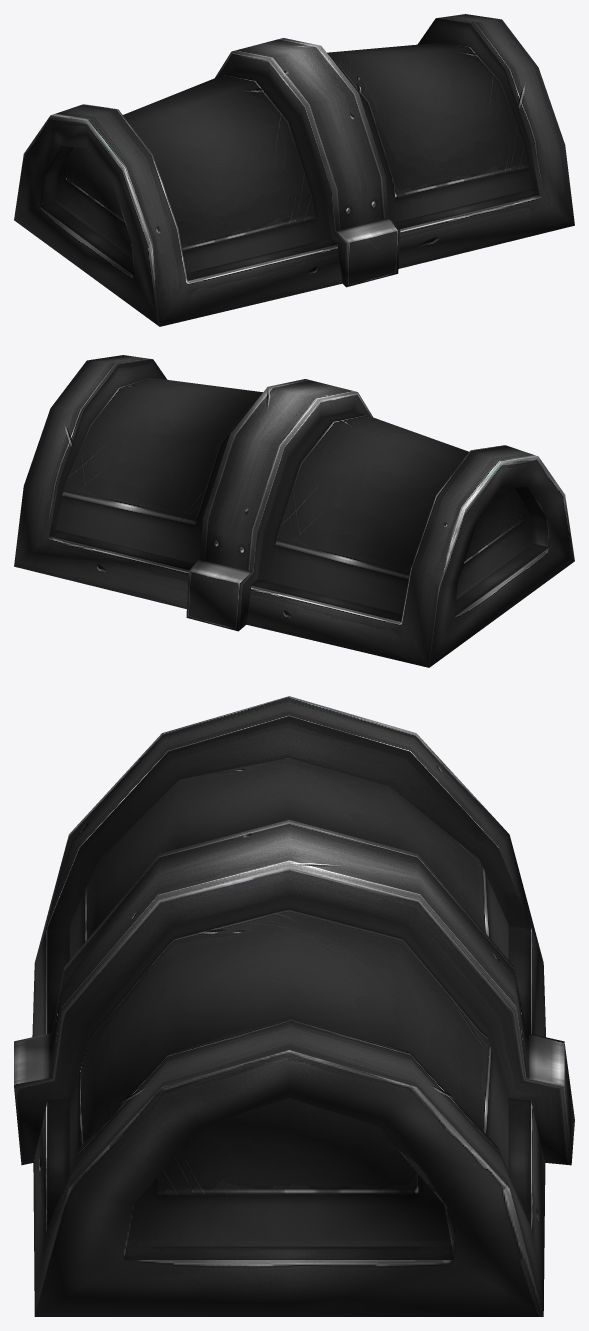
The model's file is metaltop.fbx.
The picture shows the model from 3 angles, top to bottom: view 1: azimuth 30°, elevation 25°; view 2: azimuth 150°, elevation 25°; view 3: azimuth 270°, elevation 25°; orthographic projection. The views are drawn at different scales.
Parts seen in each view (by area): view 1: Mesh; view 2: Mesh; view 3: Mesh.
Part boxes in pixels (x1=…): Mesh: x1=14, y1=14, x2=574, y2=326; Mesh: x1=14, y1=355, x2=574, y2=667; Mesh: x1=14, y1=696, x2=574, y2=1316.
Bounding box in the file's own units: 12.17 × 4.82 × 8.15.
